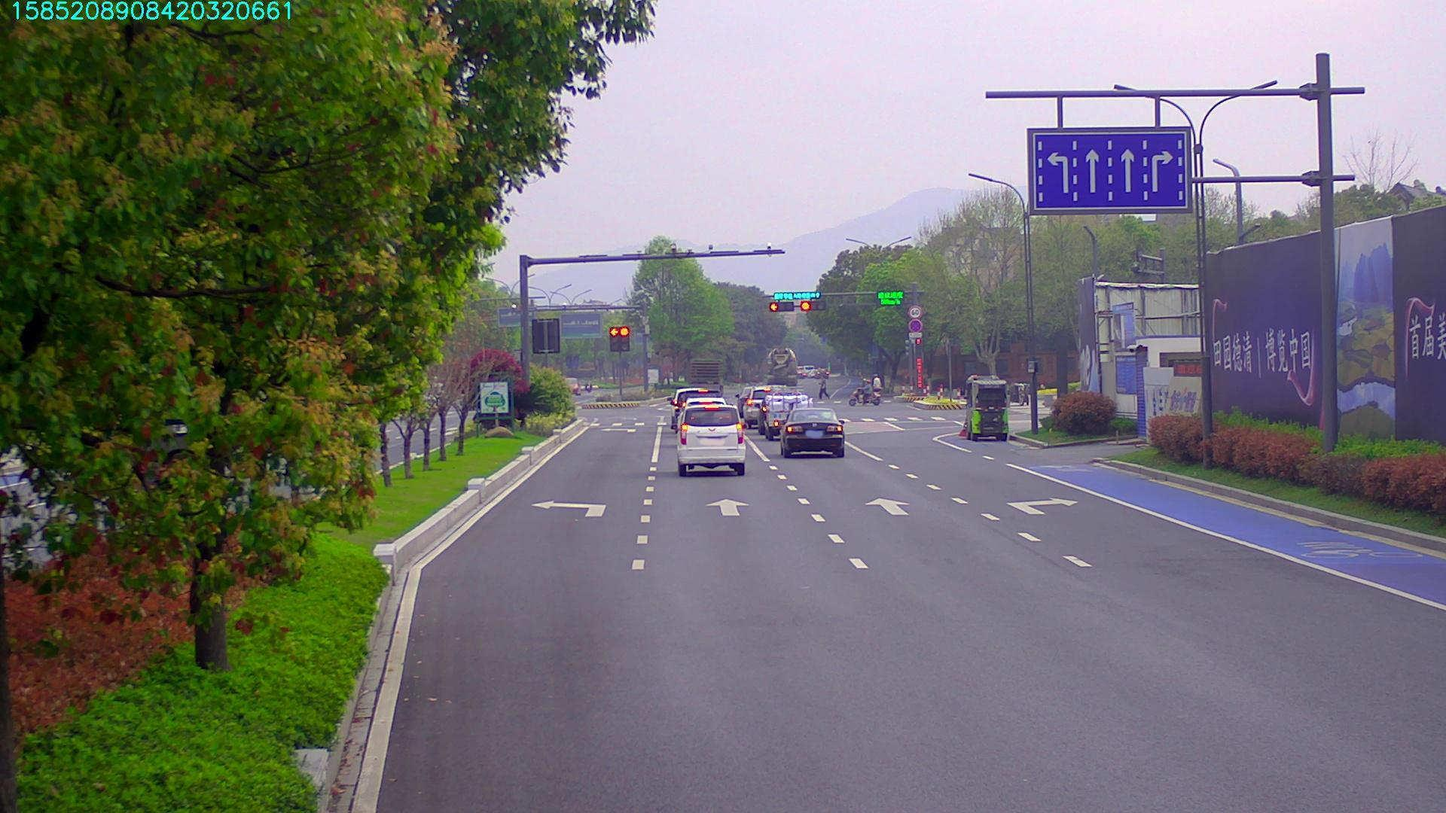red: (769, 300, 792, 317), (801, 301, 825, 315)
wait_on: (777, 290, 817, 300)
